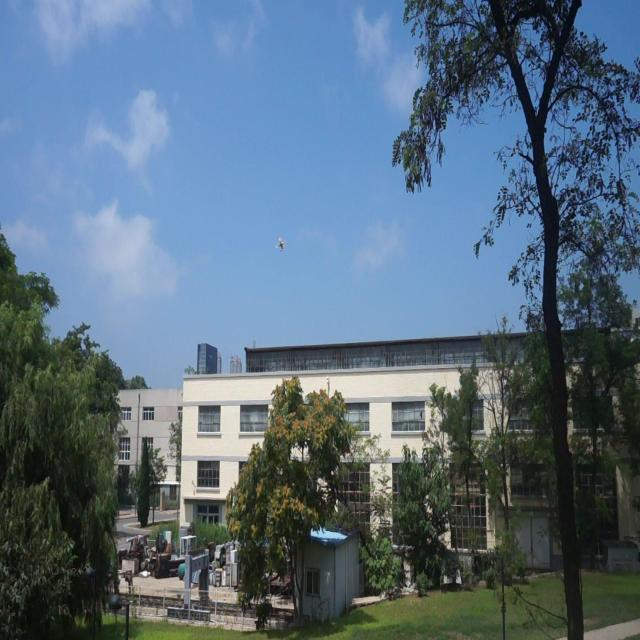drone: (274, 233, 286, 255)
